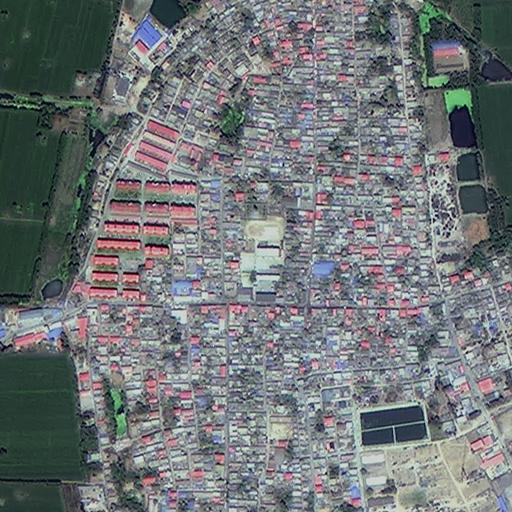school: (241, 217, 285, 304)
